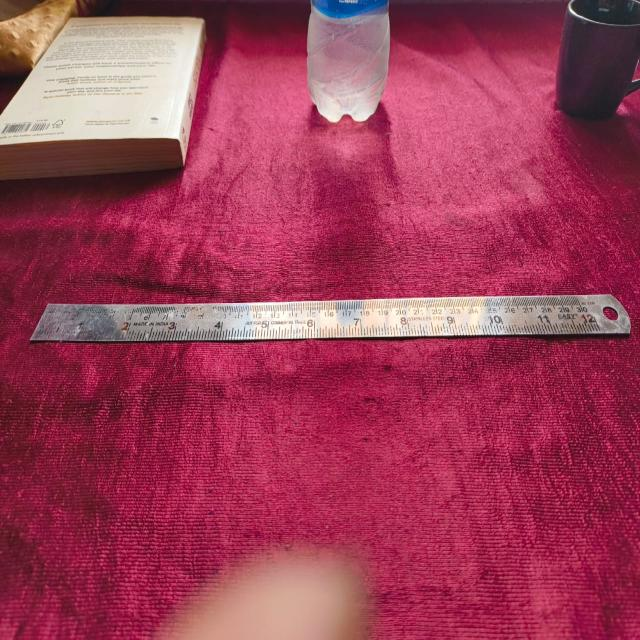Book: (0, 13, 204, 177)
Bottle: (308, 0, 389, 125)
Cup: (551, 0, 640, 124)
scale: (33, 292, 631, 340)
